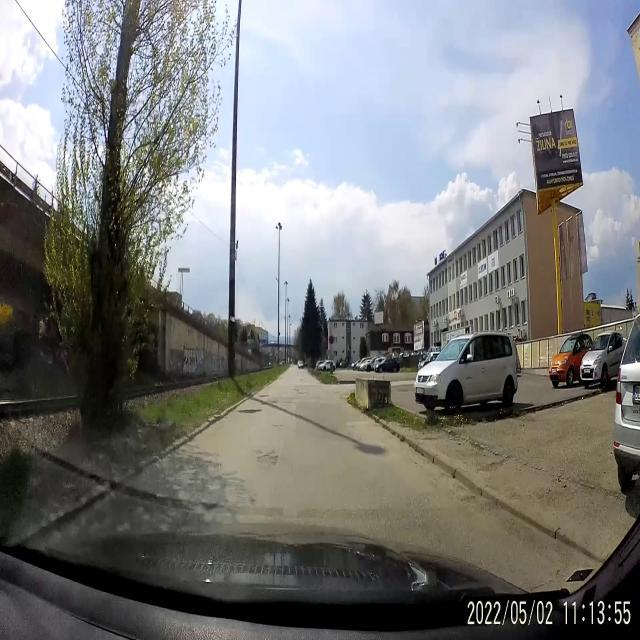Pothole: (232, 402, 264, 422), (255, 448, 281, 469), (260, 392, 270, 400)
